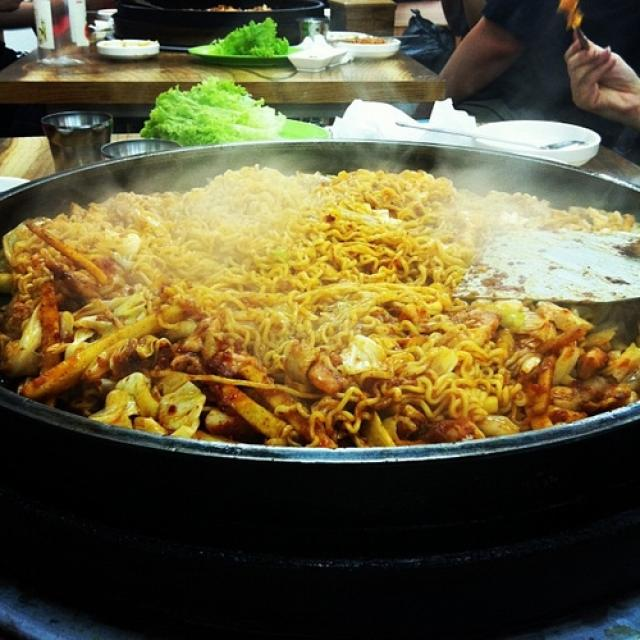鸡肉料理 含炸鸡: (8, 96, 626, 500)
